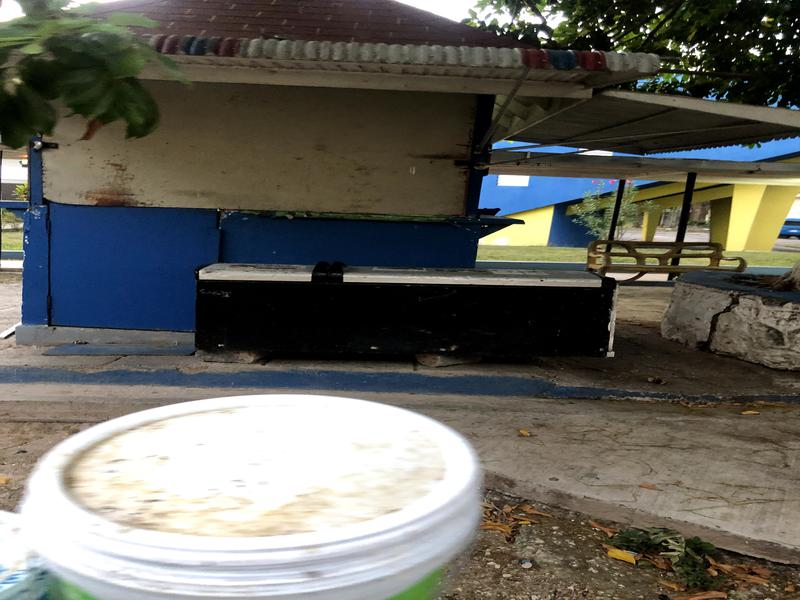18.0050609_-76.7496662_auntyjackie: (1, 5, 510, 335)
